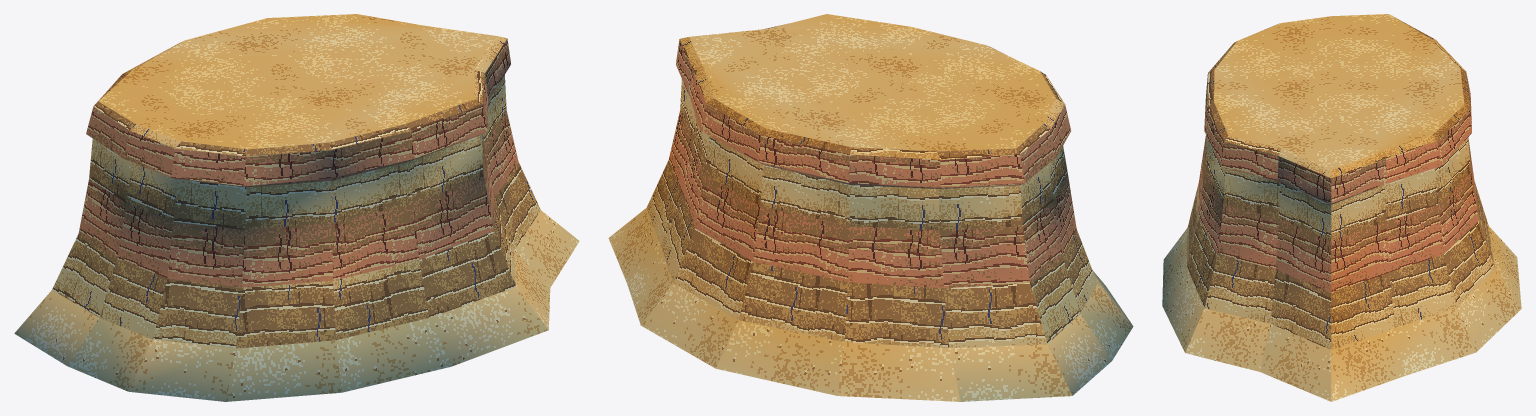
Rendered from wland.mesa.glb.
3 views of the same model, side by side, from view 1: azimuth 30°, elevation 25°; view 2: azimuth 150°, elevation 25°; view 3: azimuth 270°, elevation 25° (orthographic). The views are drawn at different scales.
Visible parts, largest first — view 1: kit_mesa; view 2: kit_mesa; view 3: kit_mesa.
Part boxes in pixels (box(x1,y1,x2,y2)): kit_mesa: box(14, 14, 579, 401); kit_mesa: box(608, 14, 1133, 401); kit_mesa: box(1162, 14, 1521, 401).
Bounding box in the file's own units: 24.14 × 10 × 16.56.
Materials: 4 (4 with a texture image).
